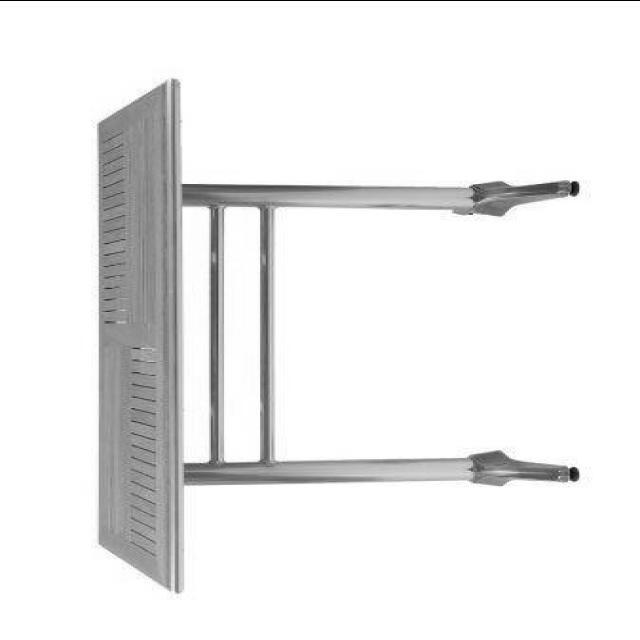table: (97, 76, 581, 592)
